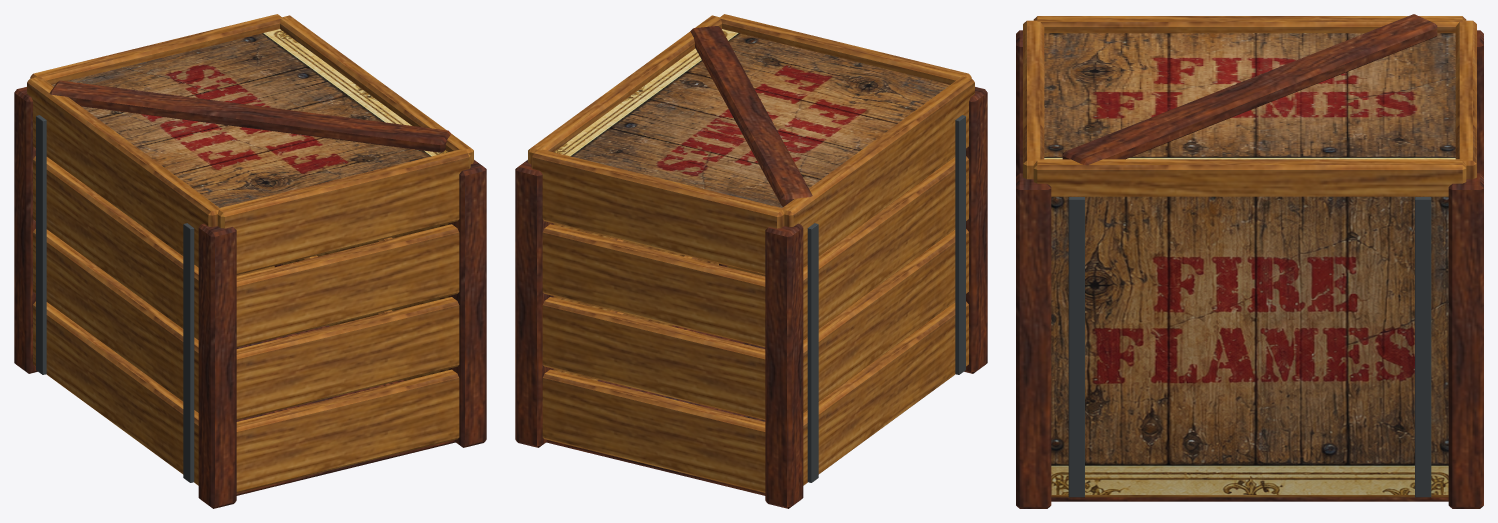
The model's file is item_7item404.glb.
The picture shows the model from 3 angles, left to right: view 1: azimuth 30°, elevation 25°; view 2: azimuth 150°, elevation 25°; view 3: azimuth 270°, elevation 25°; orthographic projection. The views are drawn at different scales.
Parts seen in each view (by area): view 1: props_7item404; view 2: props_7item404; view 3: props_7item404.
Boxes of the visible parts, x1,y1,x2,y2 form: props_7item404: [14, 14, 486, 508]; props_7item404: [515, 14, 987, 508]; props_7item404: [1016, 14, 1483, 508].
Size of the model in its own units: 0.795 by 0.8075 by 0.995.
Materials: 4 (3 with a texture image).
